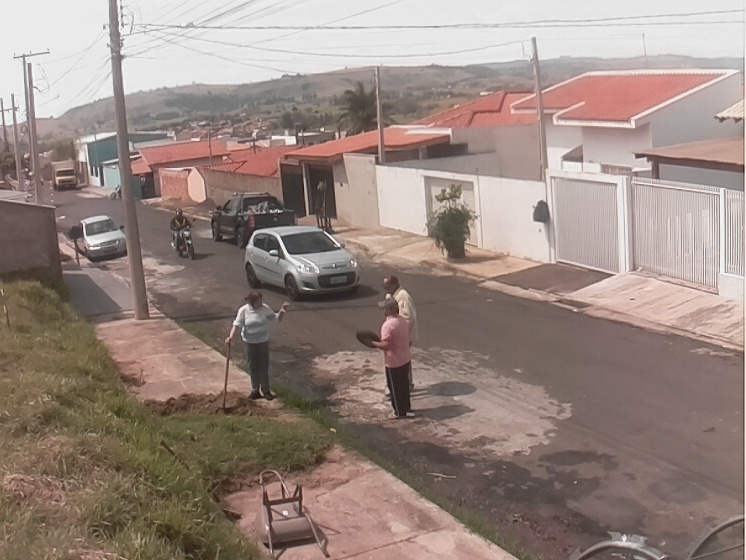person: (225, 291, 290, 400), (369, 298, 413, 419), (169, 207, 191, 252), (381, 275, 410, 308)
